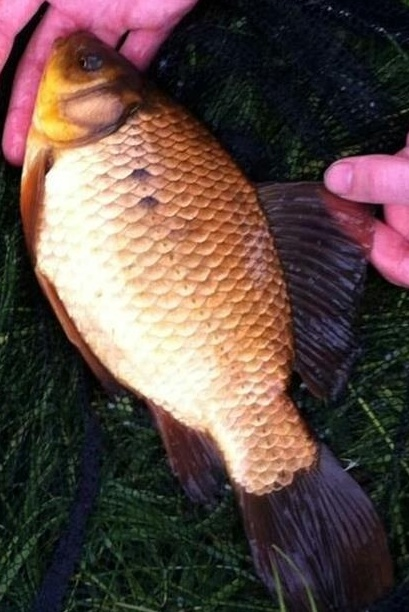Carassius carassius: (20, 20, 389, 592)
